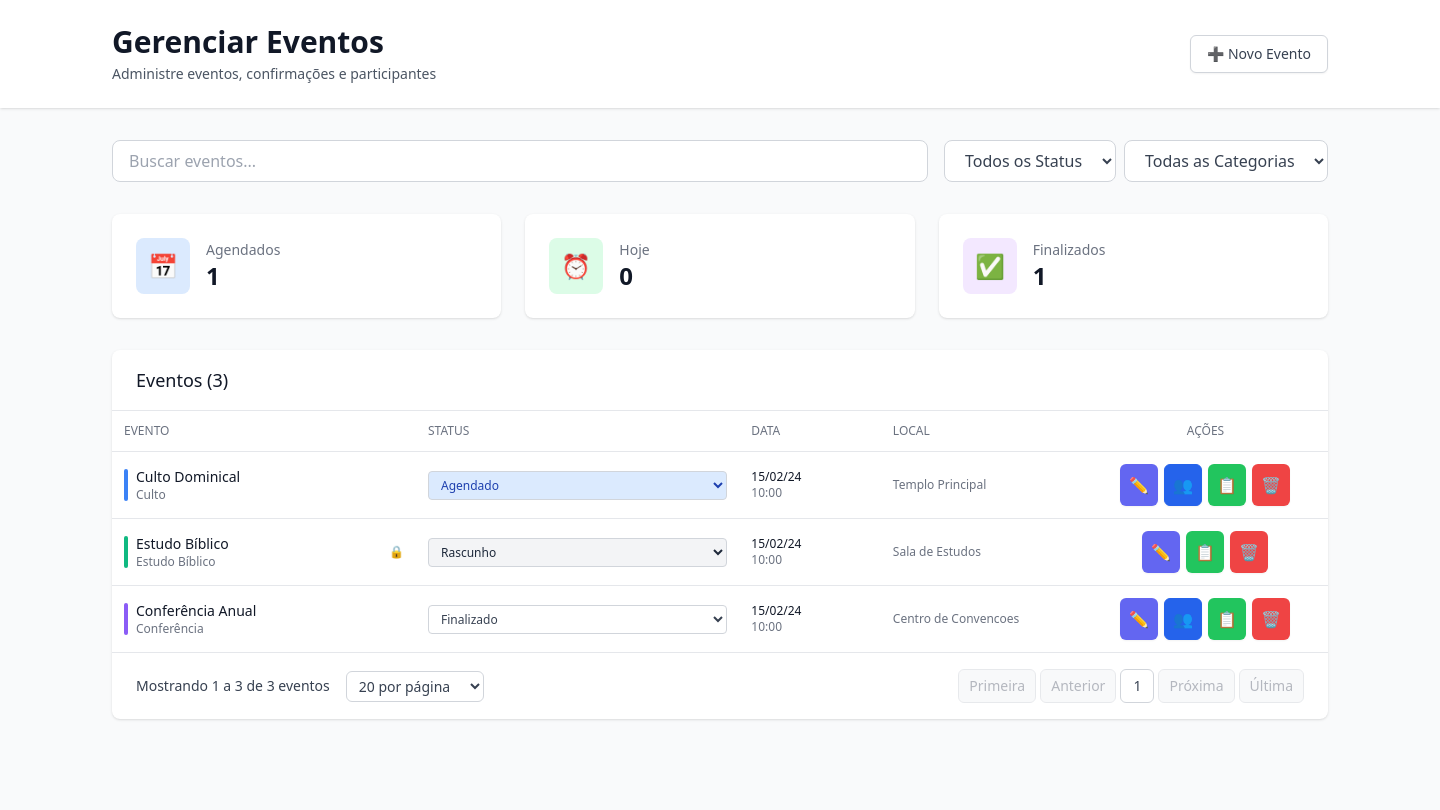
Test case: AdminEventsManagementPage › CRUD Operations › Duplicate Event › should duplicate event when confirmation is accepted
The width and height of the screenshot is (1440, 810).
Expected: the text "Culto Dominical" is shown, [136,467,240,486]
Click the button titled "Duplicar evento" in the row of "Culto Dominical" at (1228, 485), box [1208,464,1246,506]
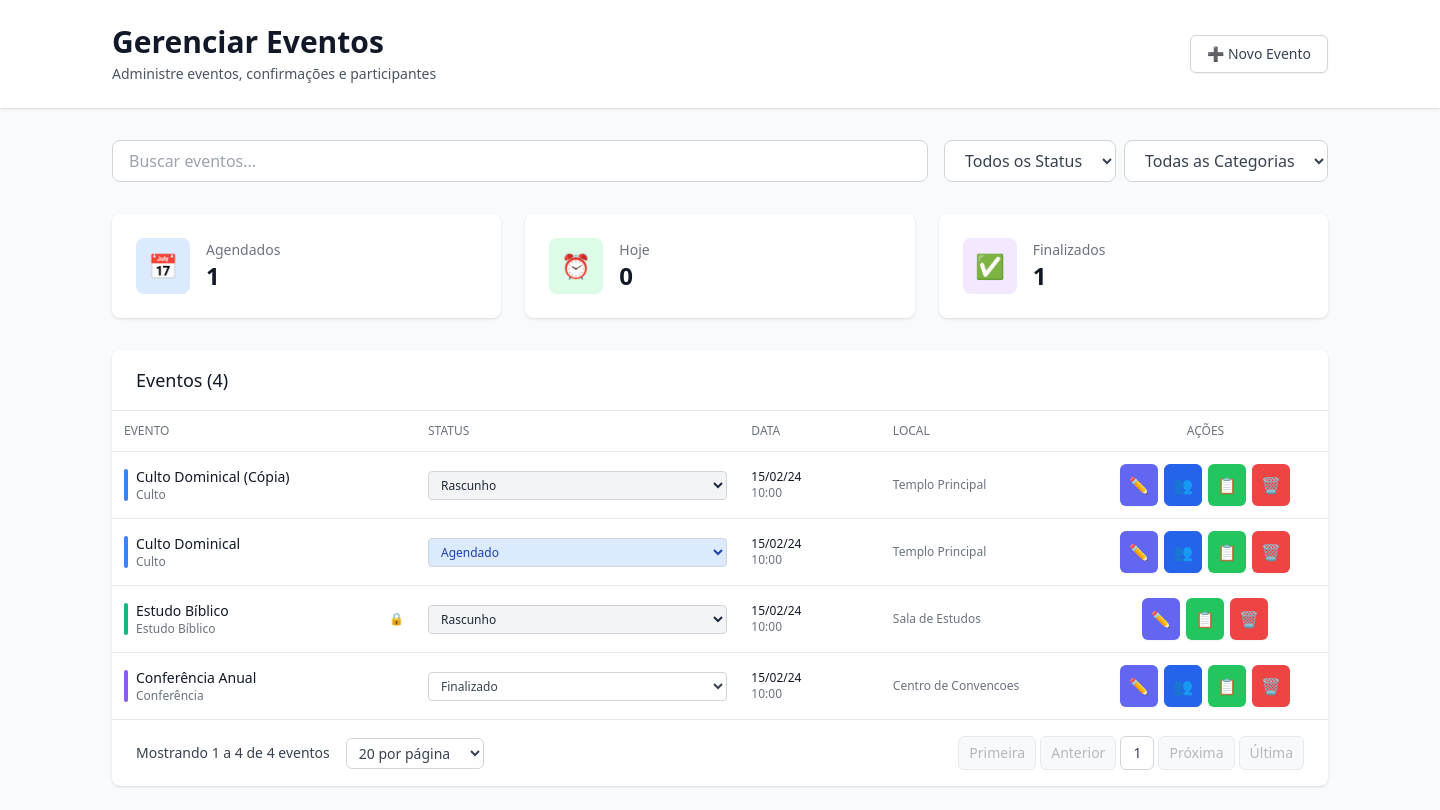
Result: the text "Culto Dominical (Cópia)" is shown at [136,467,290,486]
